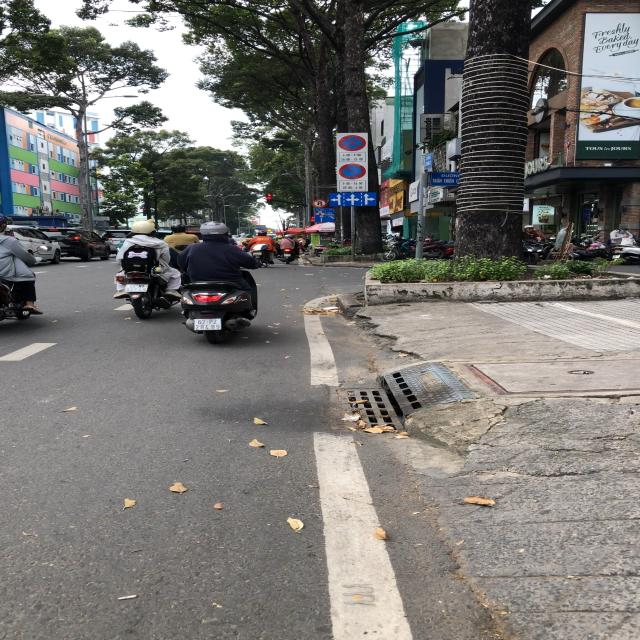Bien bao cam do xe: (339, 162, 368, 180)
Bien bao cam dung xe va do xe: (338, 133, 365, 152)
Bien bao cam quay dau xe: (311, 198, 328, 208)
